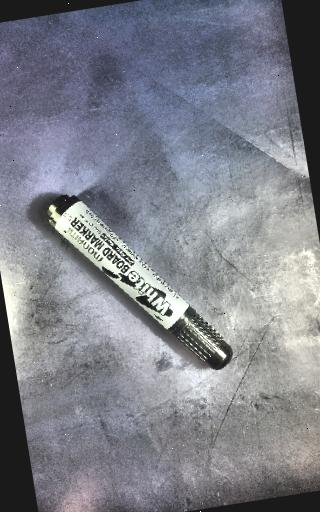marcador negro: (48, 194, 233, 369)
